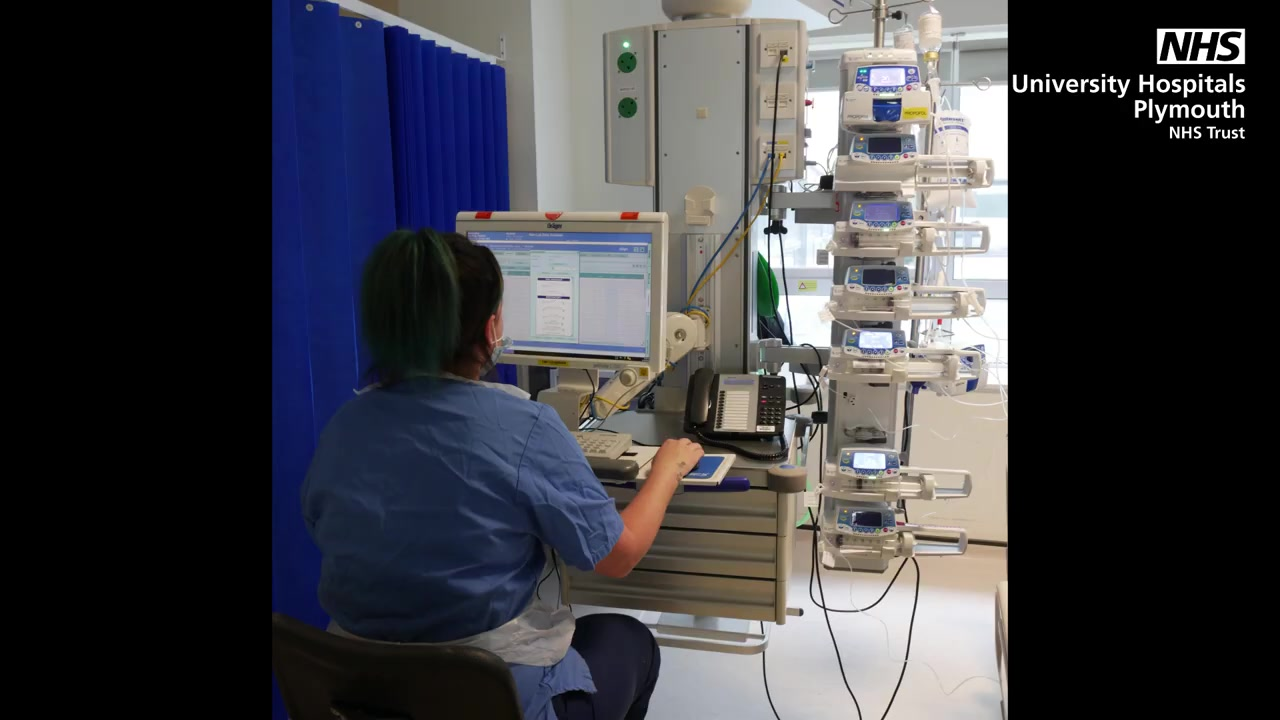chair: (275, 613, 516, 720)
computer: (456, 210, 672, 366)
curtain: (278, 1, 519, 718)
drawer: (567, 411, 803, 617)
iv_pole: (916, 77, 995, 151), (826, 1, 931, 54)
keyboard: (559, 430, 634, 464)
staff: (305, 223, 688, 720)
syringe_pump: (832, 200, 990, 258), (834, 131, 991, 187), (833, 264, 986, 320), (826, 507, 975, 563), (836, 327, 977, 382), (830, 447, 972, 500), (838, 65, 928, 130)
telephone: (684, 366, 785, 442)
